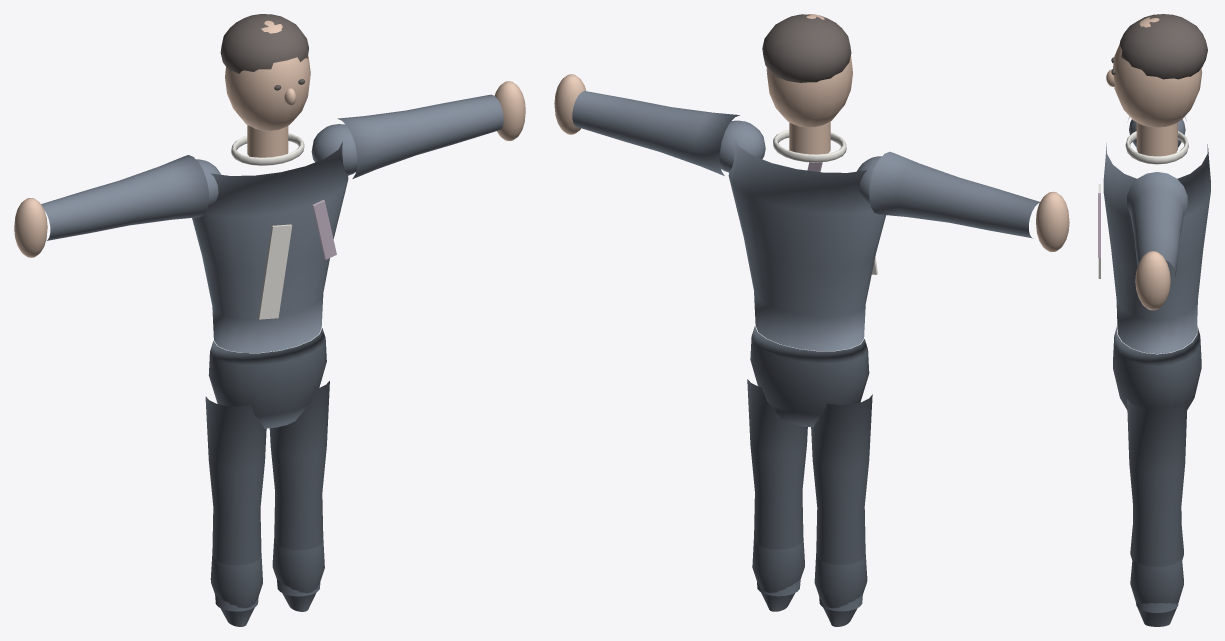
Rendered from original-player-e.glb.
3 renders of one model, left to right at view 1: azimuth 30°, elevation 25°; view 2: azimuth 150°, elevation 25°; view 3: azimuth 270°, elevation 25°, orthographic.
Visible parts, largest first — view 1: FittedTop, FittedLeg_L, FittedArm_L, FittedLeg_R, FittedPelvis, FittedArm_R, Head, Hair, PointedFoot_R, PointedFoot_L, LeftSoftCloth, Hand_L (+5 smaller); view 2: FittedTop, FittedLeg_L, FittedArm_L, FittedLeg_R, FittedPelvis, FittedArm_R, Hair, Head, PointedFoot_L, PointedFoot_R, Hand_L, SoftShoulder_R (+3 smaller); view 3: FittedTop, FittedLeg_R, FittedPelvis, Hair, FittedArm_R, Head, PointedFoot_R, Hand_R, Neck, SoftNeckline, SoftShoulder_L, RightSoftCloth.
Part boxes in pixels (<box>): FittedTop: <box>192,141,348,352</box>; FittedLeg_L: <box>205,396,266,611</box>; FittedArm_L: <box>41,155,208,240</box>; FittedLeg_R: <box>269,381,329,596</box>; FittedPelvis: <box>208,328,326,428</box>; FittedArm_R: <box>337,94,503,178</box>; Head: <box>225,20,310,130</box>; Hair: <box>220,14,308,73</box>; PointedFoot_R: <box>272,538,324,611</box>; PointedFoot_L: <box>210,553,262,626</box>; LeftSoftCloth: <box>258,224,292,319</box>; Hand_L: <box>14,198,47,257</box>; FittedTop: <box>728,138,885,350</box>; FittedLeg_L: <box>811,394,872,611</box>; FittedArm_L: <box>869,151,1039,238</box>; FittedLeg_R: <box>747,379,807,596</box>; FittedPelvis: <box>750,326,869,427</box>; FittedArm_R: <box>572,91,739,175</box>; Hair: <box>762,14,851,82</box>; Head: <box>766,14,852,127</box>; PointedFoot_L: <box>814,553,867,626</box>; PointedFoot_R: <box>752,538,804,611</box>; Hand_L: <box>1036,191,1069,251</box>; SoftShoulder_R: <box>719,120,765,172</box>; FittedTop: <box>1103,143,1210,353</box>; FittedLeg_R: <box>1127,399,1187,613</box>; FittedPelvis: <box>1113,326,1201,410</box>; Hair: <box>1119,14,1207,79</box>; FittedArm_R: <box>1127,172,1187,276</box>; Head: <box>1113,17,1202,127</box>; PointedFoot_R: <box>1130,555,1183,626</box>; Hand_R: <box>1135,251,1170,310</box>; Neck: <box>1136,122,1177,156</box>; SoftNeckline: <box>1125,131,1188,164</box>; SoftShoulder_L: <box>1129,119,1185,147</box>; RightSoftCloth: <box>1098,193,1100,257</box>.
Bounding box in the file's own units: 2.46 × 2.75 × 0.4765.
